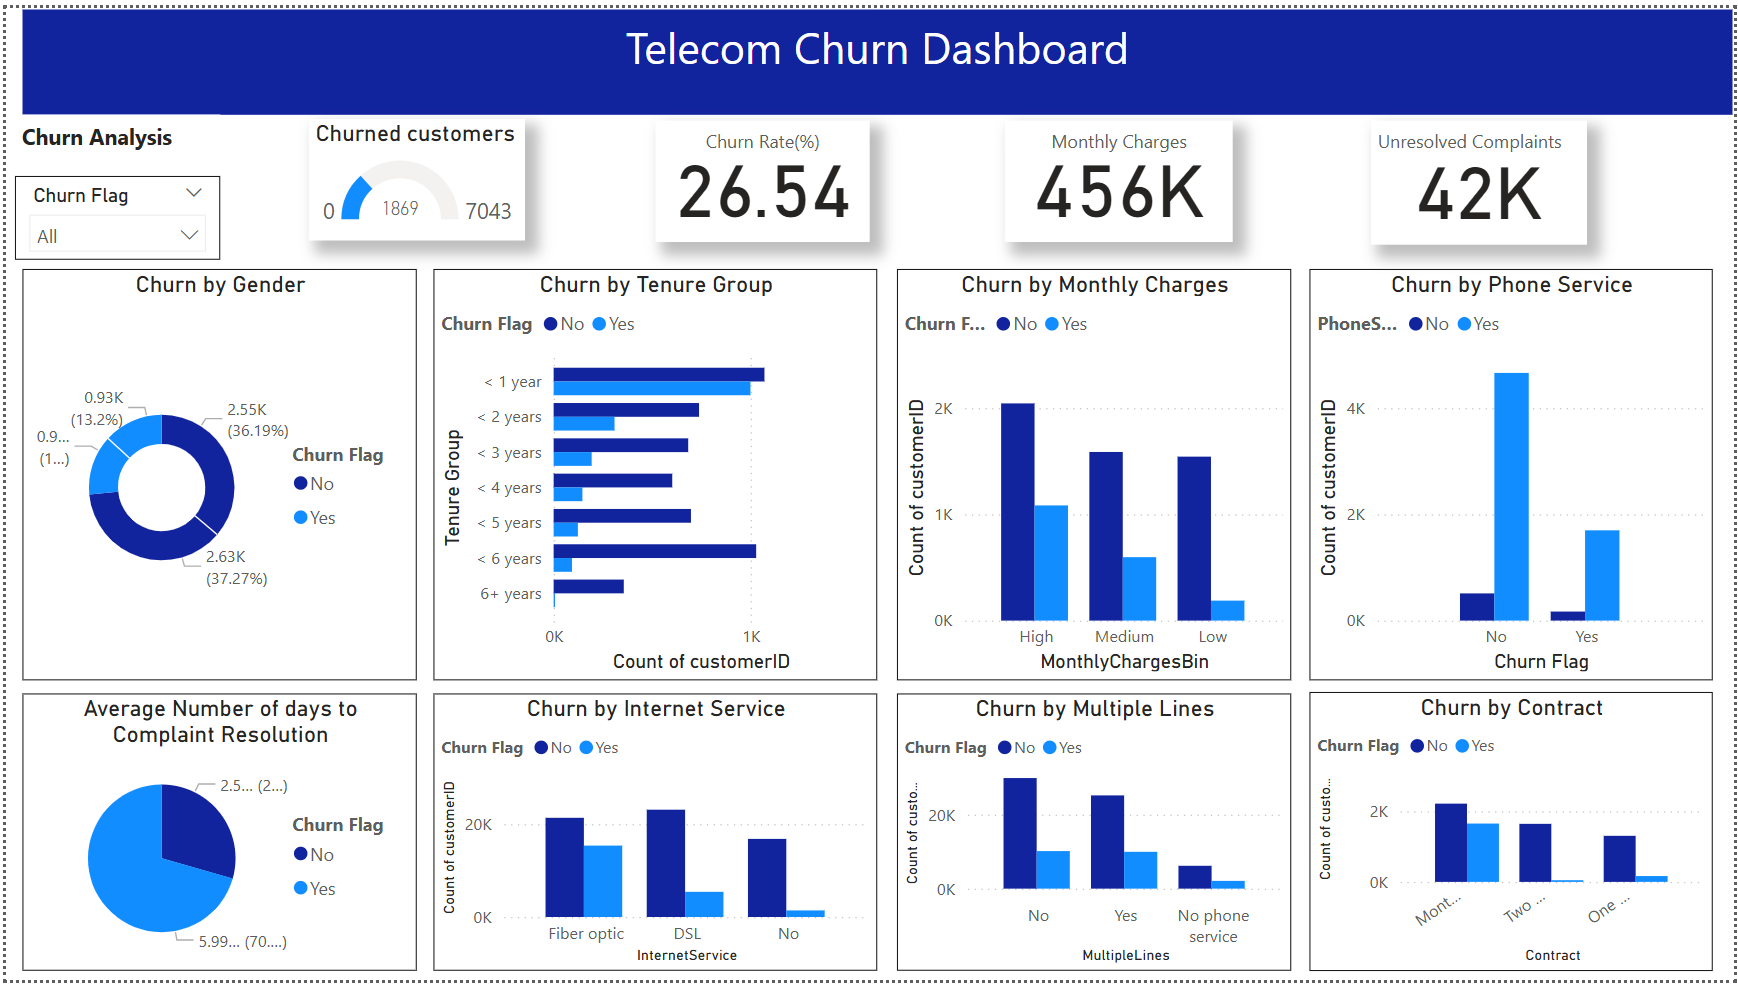

This screenshot's page, from the dashboard's own definition file:
{"tool":"powerbi","page":{"name":"Churn Analysis","canvas":[1280,720],"ordinal":1},"visuals":[{"type":"textbox","box":[12.2,1.1,1266.7,77.8],"z":0},{"type":"clusteredBarChart","title":"Churn by Tenure Group","fields":{"Category":["dim_customer.Tenure Group"],"Series":["dim_customer.Churn Flag"],"Y":["CountNonNull(dim_customer.customerID)"]},"box":[316.7,193.3,328.9,304.4],"z":1000},{"type":"gauge","title":"Churned customers","fields":{"Y":["dim_customer.Total Churned Customers"]},"box":[224.4,82.2,160,90],"z":2000},{"type":"card","fields":{"Values":["dim_customer.Churn Rate (%)"]},"box":[481.1,83.3,158.9,90],"z":3000},{"type":"donutChart","title":"Churn by Gender","fields":{"Category":["dim_customer.Churn Flag"],"Y":["CountNonNull(dim_customer.customerID)"],"Series":["dim_customer.gender"]},"box":[12.2,193.3,292.2,304.4],"z":6000},{"type":"clusteredColumnChart","title":"Churn by Monthly Charges","fields":{"Series":["dim_customer.Churn Flag"],"Category":["dim_customer.MonthlyChargesBin"],"Y":["CountNonNull(dim_customer.customerID)"]},"box":[660,193.3,292.2,304.4],"z":7000},{"type":"clusteredColumnChart","title":"Churn by Internet Service","fields":{"Category":["dim_customer.InternetService"],"Series":["dim_customer.Churn Flag"],"Y":["CountNonNull(dim_complaint.customerID)"]},"box":[316.7,507.8,328.9,205.6],"z":8000},{"type":"clusteredColumnChart","title":"Churn by Phone Service","fields":{"Category":["dim_customer.Churn Flag"],"Y":["CountNonNull(dim_customer.customerID)"],"Series":["dim_customer.PhoneService"]},"box":[965.6,193.3,298.9,304.4],"z":9000},{"type":"clusteredColumnChart","title":"Churn by Multiple Lines","fields":{"Category":["dim_customer.MultipleLines"],"Y":["CountNonNull(dim_complaint.customerID)"],"Series":["dim_customer.Churn Flag"]},"box":[660,507.8,292.2,205.6],"z":10000},{"type":"pieChart","title":"Average Number of days to Complaint Resolution","fields":{"Y":["Avg(dim_complaint.Number of days to complaint resolution)"],"Series":["dim_customer.Churn Flag"]},"box":[12.2,507.8,292.2,205.6],"z":11000},{"type":"clusteredColumnChart","title":"Churn by Contract","fields":{"Category":["dim_customer.Contract"],"Y":["CountNonNull(dim_customer.customerID)"],"Series":["dim_customer.Churn Flag"]},"box":[965.6,506.7,298.9,206.7],"z":12000},{"type":"slicer","fields":{"Values":["dim_customer.Churn Flag"]},"box":[6.7,124.4,152.2,62.2],"z":14000},{"type":"textbox","box":[6.7,78.9,152.2,40],"z":15000},{"type":"card","fields":{"Values":["Sum(dim_customer.MonthlyCharges)"]},"box":[740,83.3,168.9,90],"z":15001},{"type":"card","fields":{"Values":["fact_complaints.Unresolved Complaints"]},"box":[1011.1,83.3,160,92.2],"z":15002}]}

Visuals, with their boxes in screenshot pixels (x1, y1, x2, y2), scaled from the page's 1280x720 canvas onto the 1738x984 screenshot:
textbox: BBox(17, 2, 1737, 108)
"Churn by Tenure Group" clusteredBarChart: BBox(430, 264, 877, 680)
"Churned customers" gauge: BBox(305, 112, 522, 235)
card - dim_customer.Churn Rate (%): BBox(653, 114, 869, 237)
"Churn by Gender" donutChart: BBox(17, 264, 413, 680)
"Churn by Monthly Charges" clusteredColumnChart: BBox(896, 264, 1293, 680)
"Churn by Internet Service" clusteredColumnChart: BBox(430, 694, 877, 975)
"Churn by Phone Service" clusteredColumnChart: BBox(1311, 264, 1717, 680)
"Churn by Multiple Lines" clusteredColumnChart: BBox(896, 694, 1293, 975)
"Average Number of days to Complaint Resolution" pieChart: BBox(17, 694, 413, 975)
"Churn by Contract" clusteredColumnChart: BBox(1311, 692, 1717, 975)
slicer - dim_customer.Churn Flag: BBox(9, 170, 216, 255)
textbox: BBox(9, 108, 216, 162)
card - Sum(dim_customer.MonthlyCharges): BBox(1005, 114, 1234, 237)
card - fact_complaints.Unresolved Complaints: BBox(1373, 114, 1590, 240)
